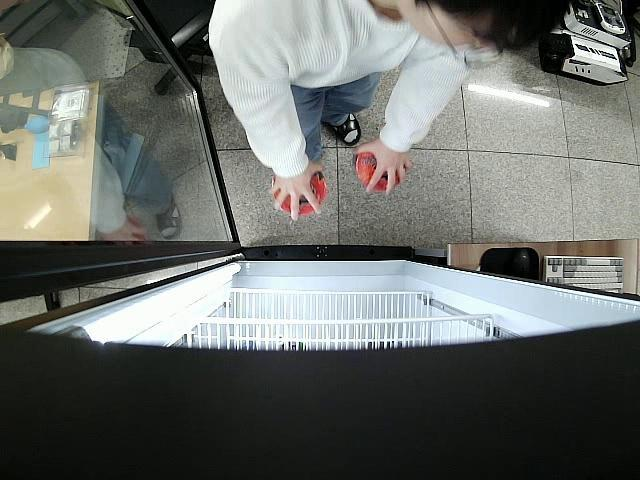01_ShinRamen_L: (270, 174, 326, 216), (356, 152, 406, 192)
